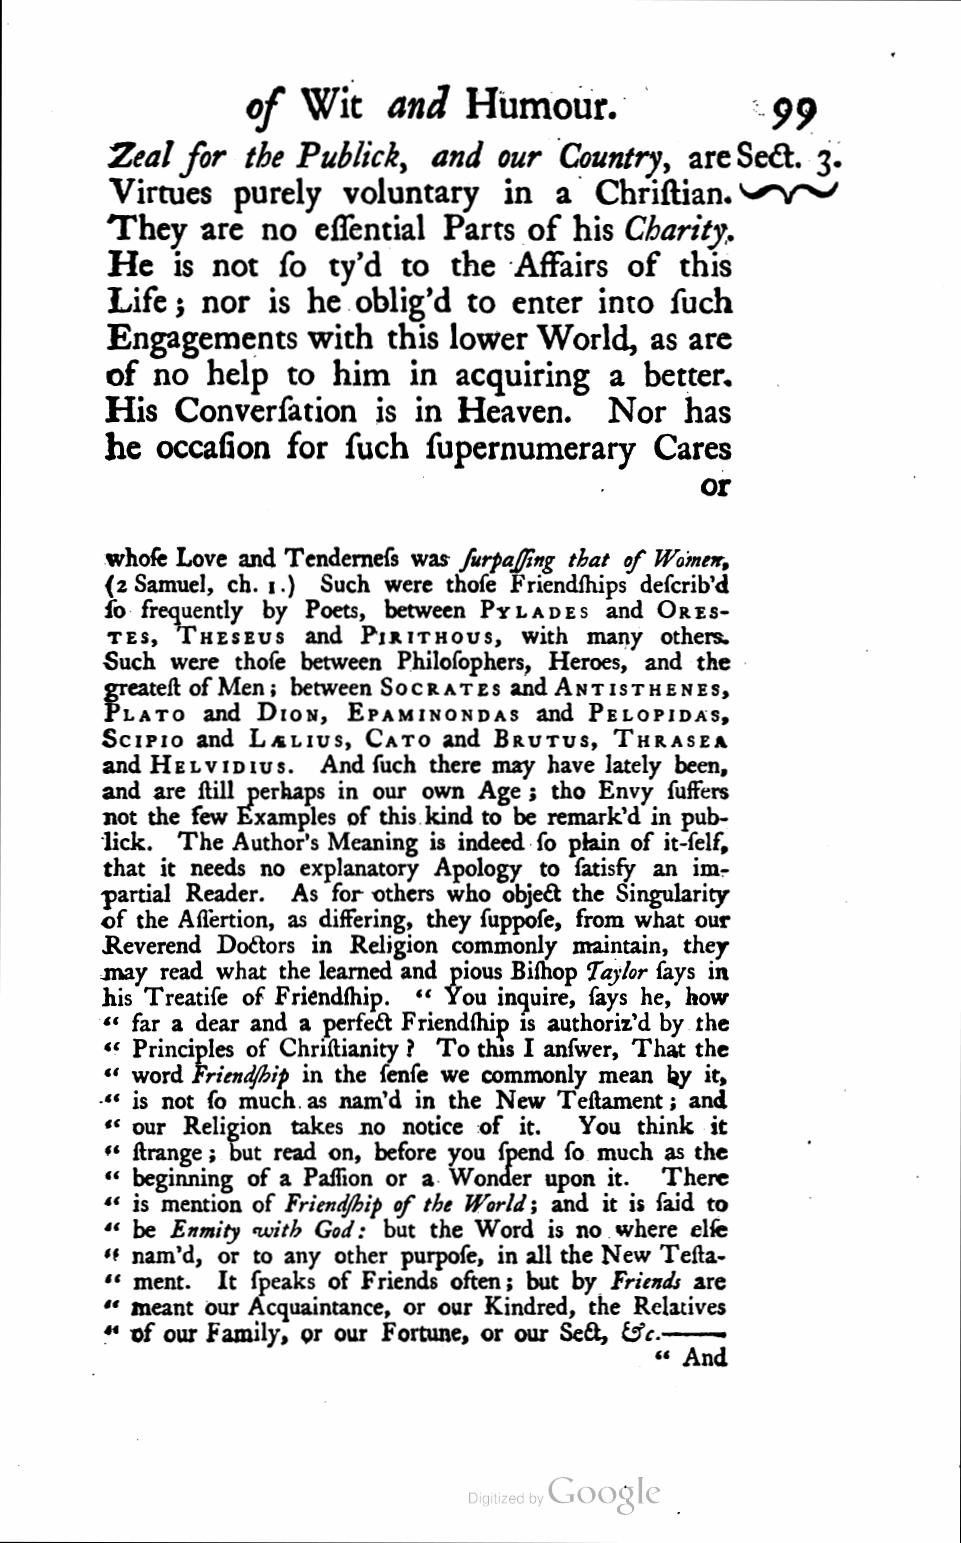bottom_p: (100, 135, 735, 472)
catchword: (652, 1344, 730, 1369), (700, 474, 735, 504)
footnotes: (99, 538, 735, 1349)
header: (241, 79, 619, 135)
page_num: (768, 93, 819, 134)
print_marg: (734, 138, 845, 209)
